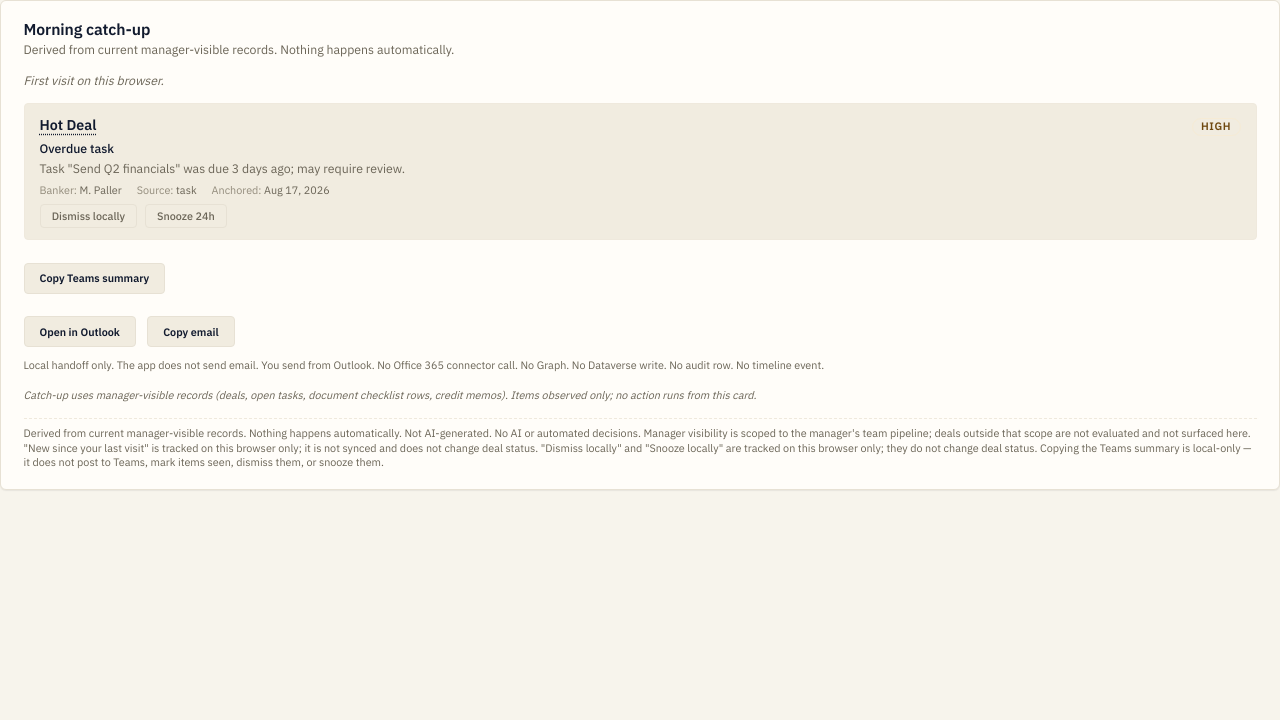
ManagerMorningCatchUp — Phase 88 › Phase 91 — local catch-up item ledger › clicking Dismiss locally marks the row dismissed + reveals a Restore button
Click the button with aria-label "Dismiss catch-up item for Hot Deal locally". click: {"x": 88, "y": 216}
box: 40,204 -> 137,228
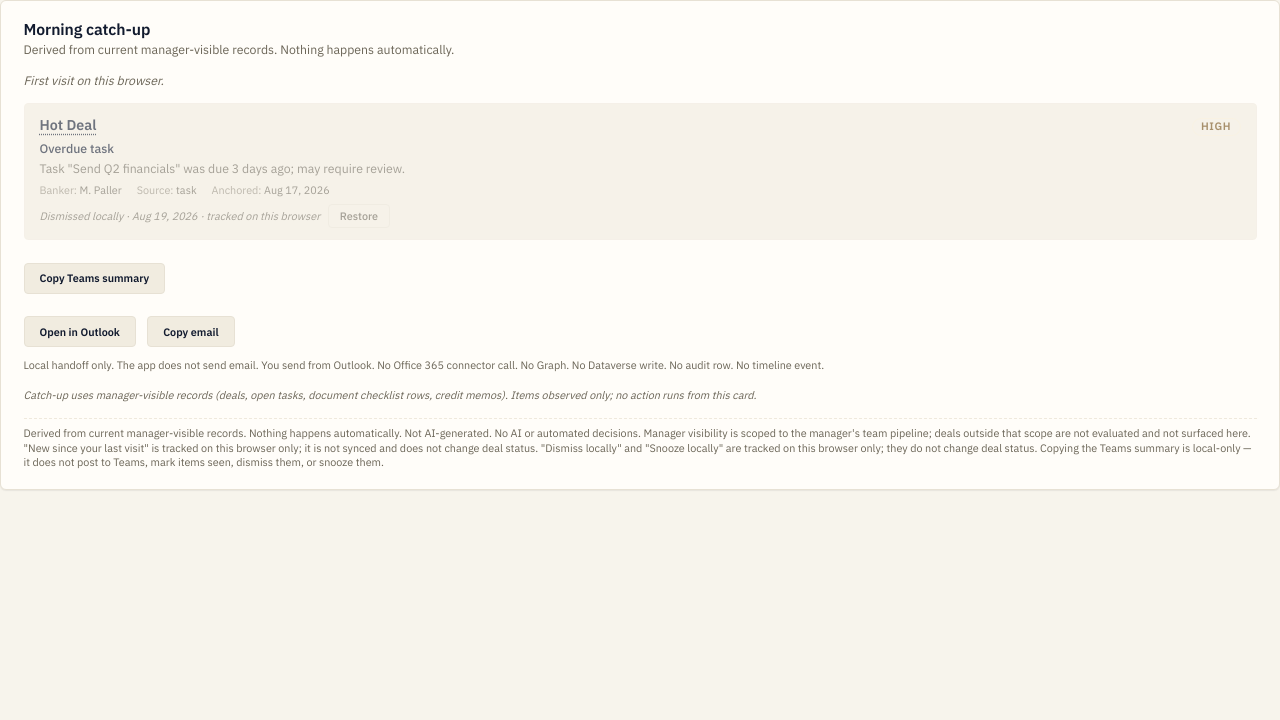
Now the text "Dismissed locally · Aug 19, 2026 · tracked on this browser" is shown, box 40,209 -> 320,223
Now the button with aria-label "Restore catch-up item for Hot Deal" is shown, box 328,204 -> 390,228
